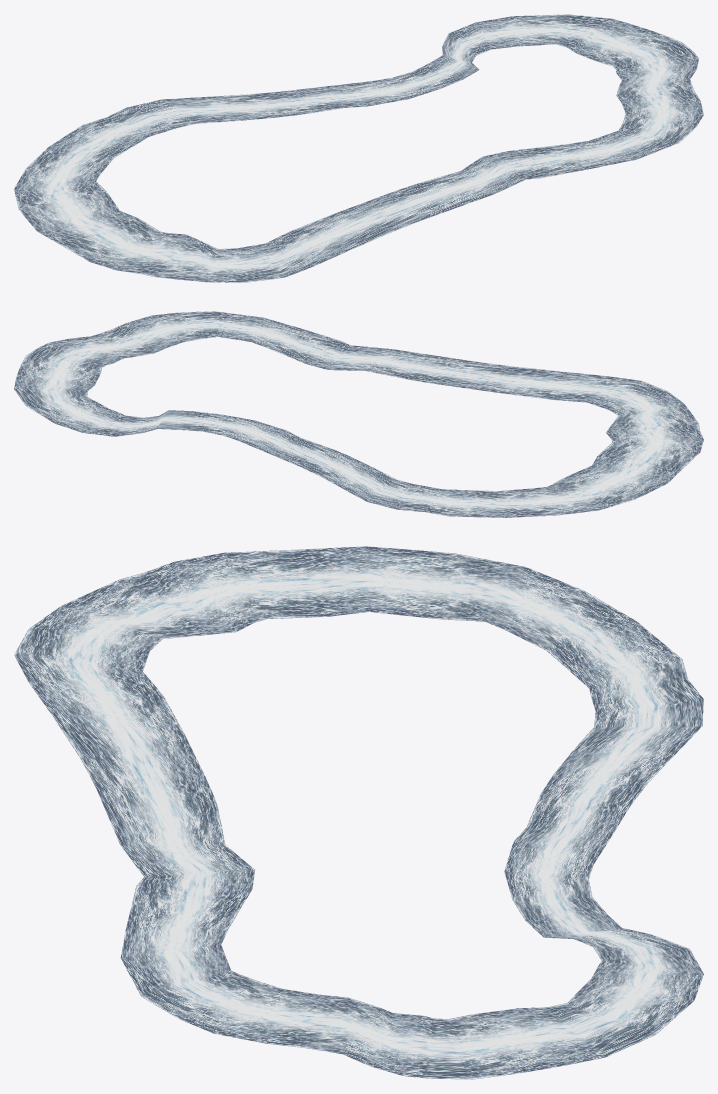
Rendered from snow_island_04_coast.fbx.
3 views of the same model, one above another, from view 1: azimuth 30°, elevation 25°; view 2: azimuth 150°, elevation 25°; view 3: azimuth 270°, elevation 25° (orthographic). The views are drawn at different scales.
Parts seen in each view (by area): view 1: snow_island_04_coast; view 2: snow_island_04_coast; view 3: snow_island_04_coast.
Part boxes in pixels (left/top/right/bottom): snow_island_04_coast: left=14, top=14, right=703, bottom=282; snow_island_04_coast: left=14, top=311, right=703, bottom=517; snow_island_04_coast: left=14, top=546, right=703, bottom=1079.
Size of the model in its own units: 0.1443 by 1.58e-10 by 0.0789.
